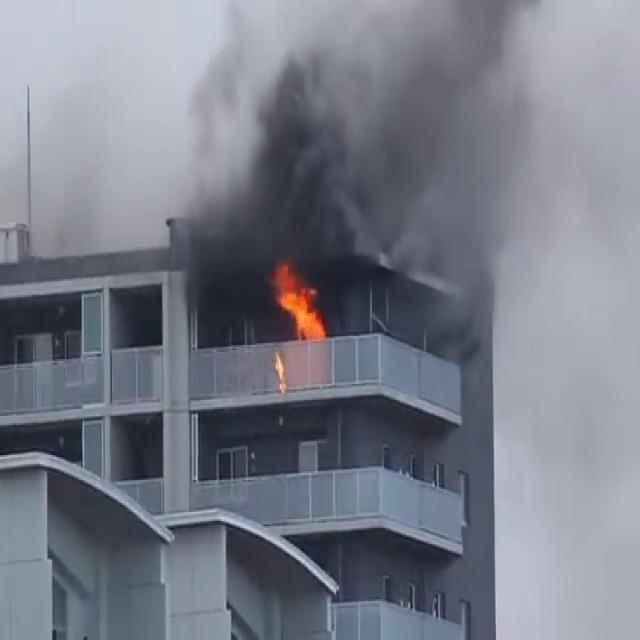Fire: (268, 256, 328, 341)
Smoke: (149, 0, 631, 332)
